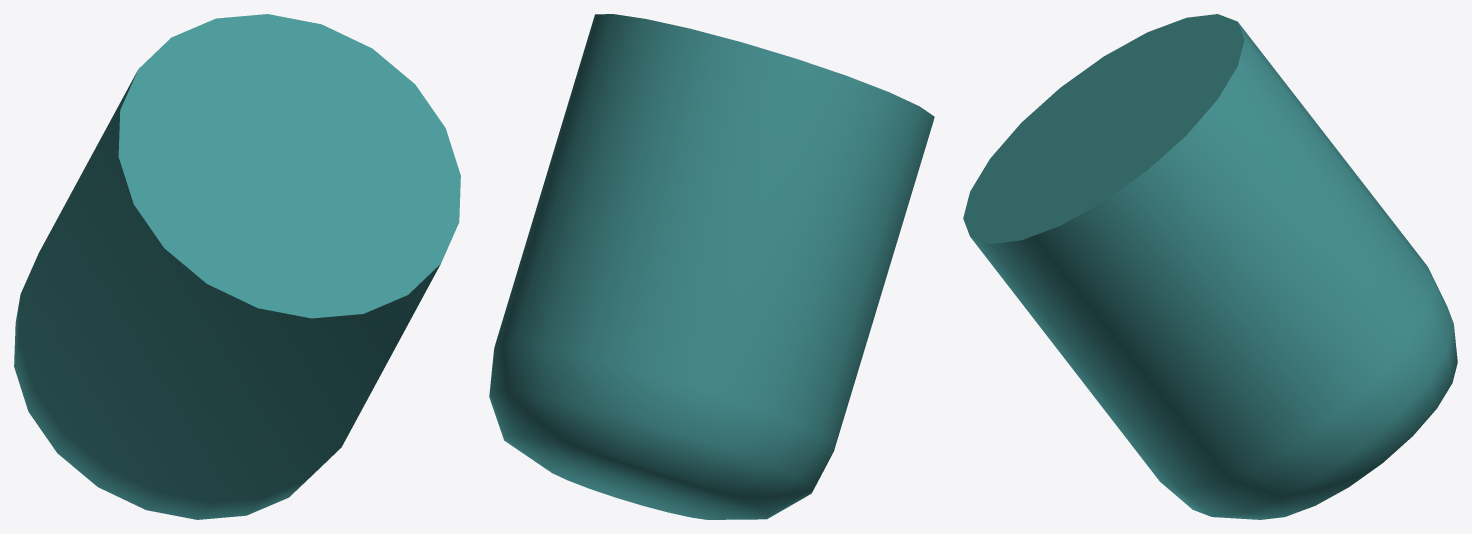
The model's file is SM_凯式定氮仪液体_001.fbx.
The picture shows the model from 3 angles, left to right: view 1: azimuth 30°, elevation 25°; view 2: azimuth 150°, elevation 25°; view 3: azimuth 270°, elevation 25°; orthographic projection. The views are drawn at different scales.
Parts seen in each view (by area): view 1: SM_凯式定氮仪液体_001; view 2: SM_凯式定氮仪液体_001; view 3: SM_凯式定氮仪液体_001.
Part boxes in pixels (left/top/right/bottom): SM_凯式定氮仪液体_001: left=14, top=14, right=460, bottom=519; SM_凯式定氮仪液体_001: left=489, top=14, right=934, bottom=519; SM_凯式定氮仪液体_001: left=963, top=14, right=1457, bottom=519.
Bounding box in the file's own units: 0.0352 × 0.0519 × 0.0506.
